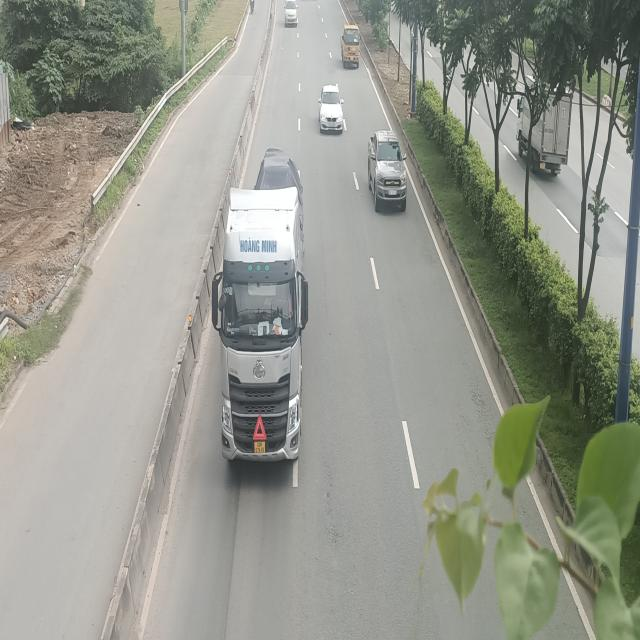car: (366, 128, 405, 211), (318, 84, 344, 133)
container: (212, 153, 308, 463)
truck: (342, 25, 363, 70)
